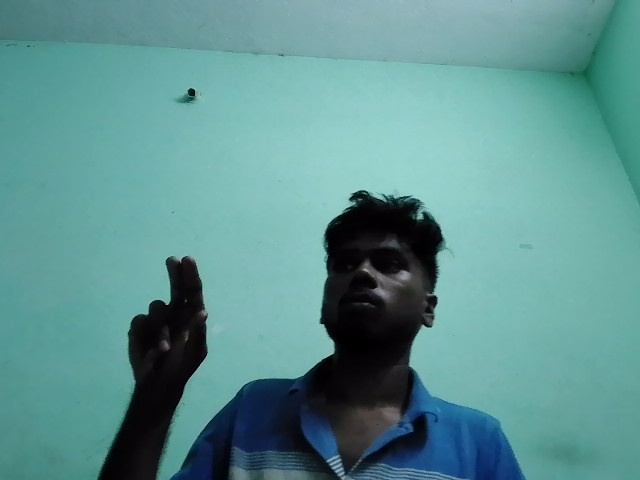No: (98, 242, 245, 405)
